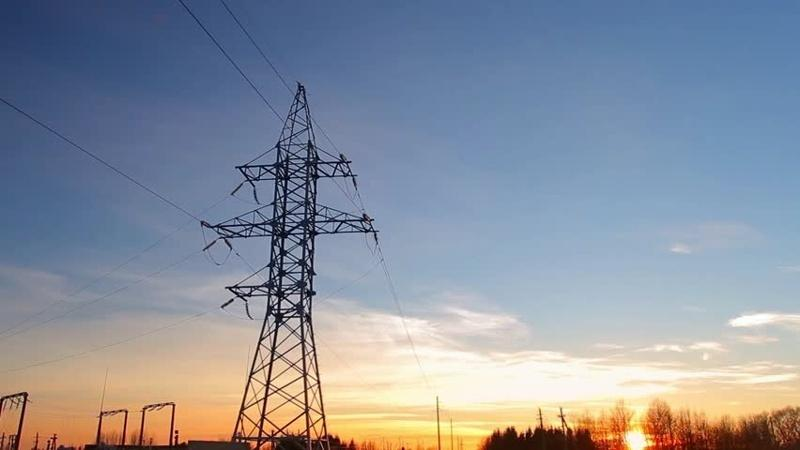power_tower: (197, 81, 381, 450)
